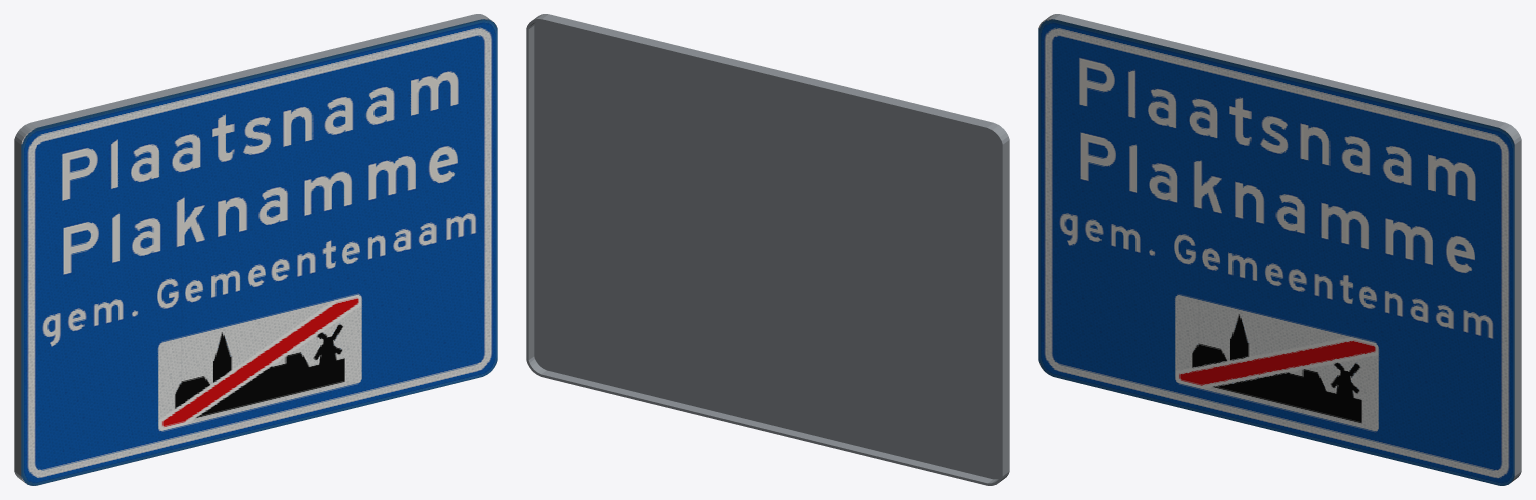
3 views of the same model, side by side, from view 1: azimuth 30°, elevation 25°; view 2: azimuth 150°, elevation 25°; view 3: azimuth 330°, elevation 25° (orthographic).
Parts seen in each view (by area): view 1: cat_6e986a60061c451e; view 2: cat_6e986a60061c451e; view 3: cat_6e986a60061c451e.
Boxes of the visible parts, bbox=[...] form: cat_6e986a60061c451e: bbox=[14, 14, 497, 485]; cat_6e986a60061c451e: bbox=[526, 14, 1009, 485]; cat_6e986a60061c451e: bbox=[1038, 14, 1521, 485].
Size of the model in its own units: 0.6 by 0.015 by 0.4306.
Materials: 2 (1 with a texture image).
